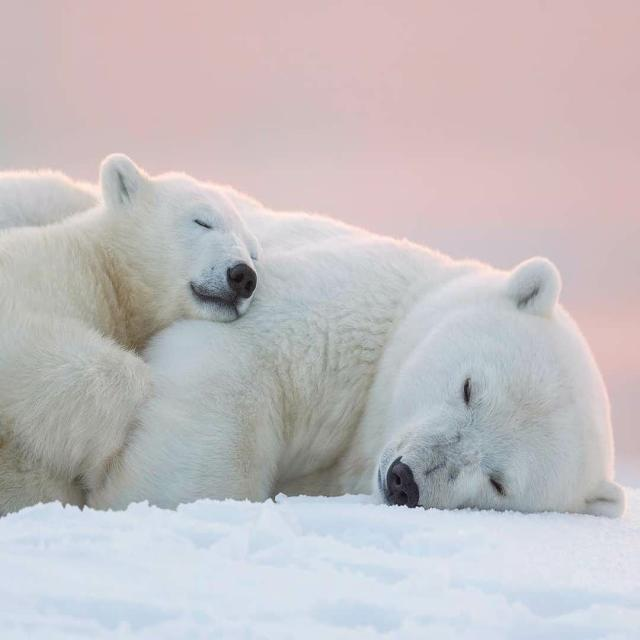Carnivorous: (115, 205, 622, 518), (0, 155, 260, 517)
